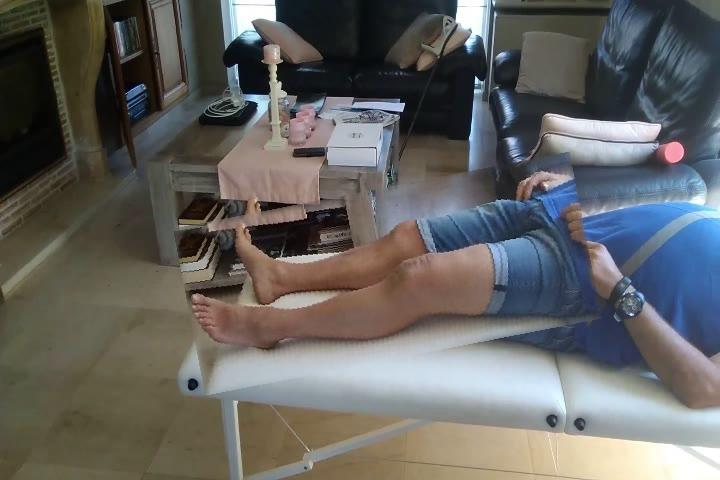lower_body: (181, 172, 597, 378)
